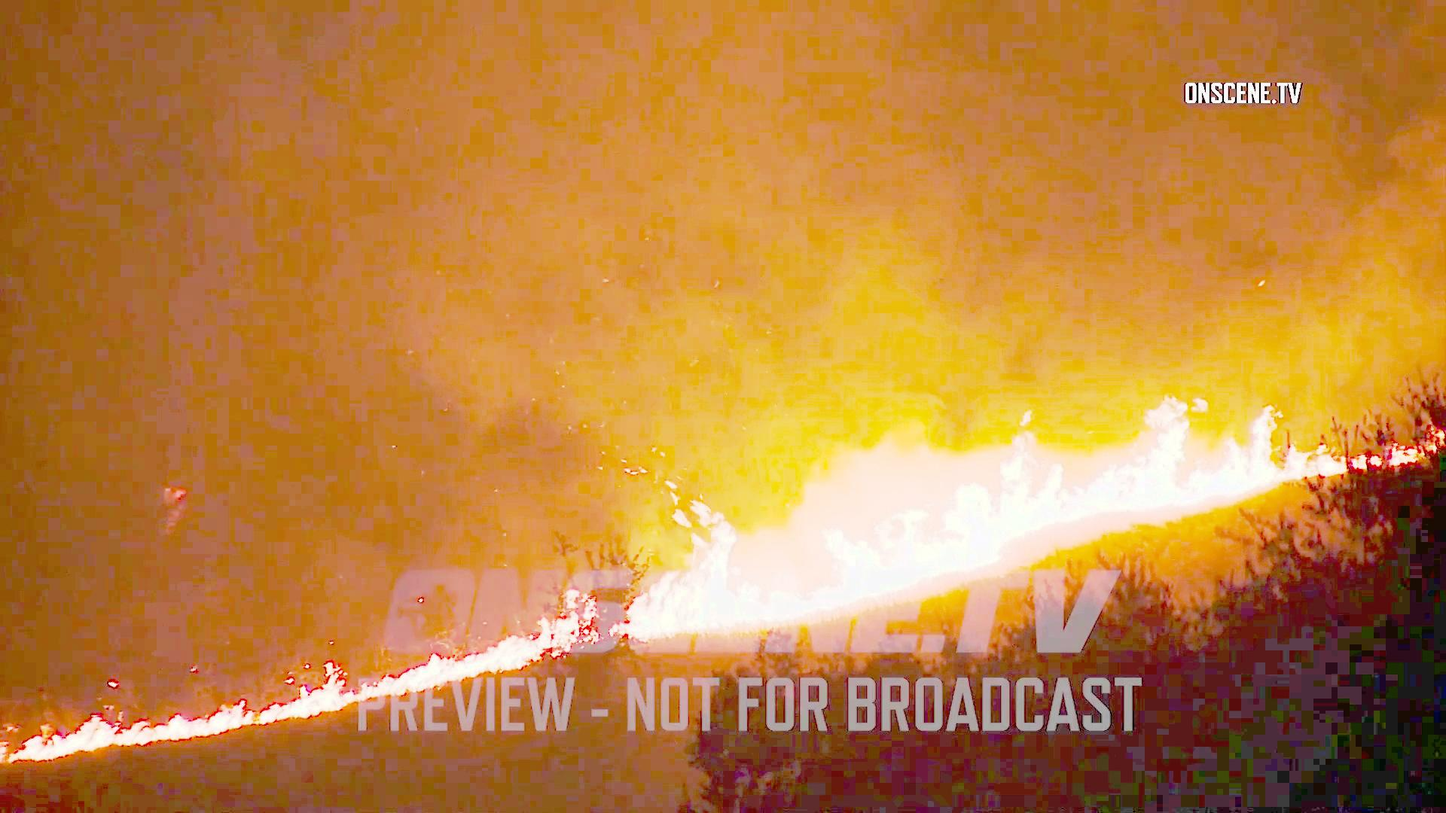fire: (814, 413, 1187, 609), (627, 437, 843, 613)
